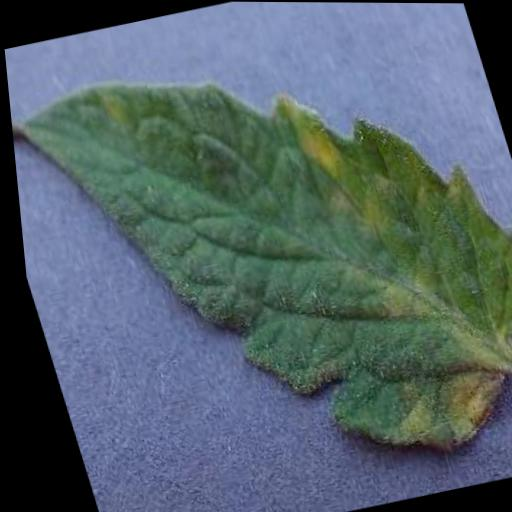Leaf Mold: (0, 5, 512, 512)
